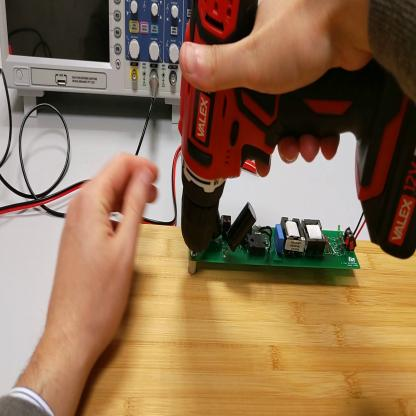electric screwdriver: (181, 2, 416, 262)
hand: (179, 4, 363, 177), (47, 154, 161, 364)
high voltage board: (181, 207, 373, 279)
oscilloscope: (1, 1, 196, 123)
working area: (77, 223, 416, 416)
